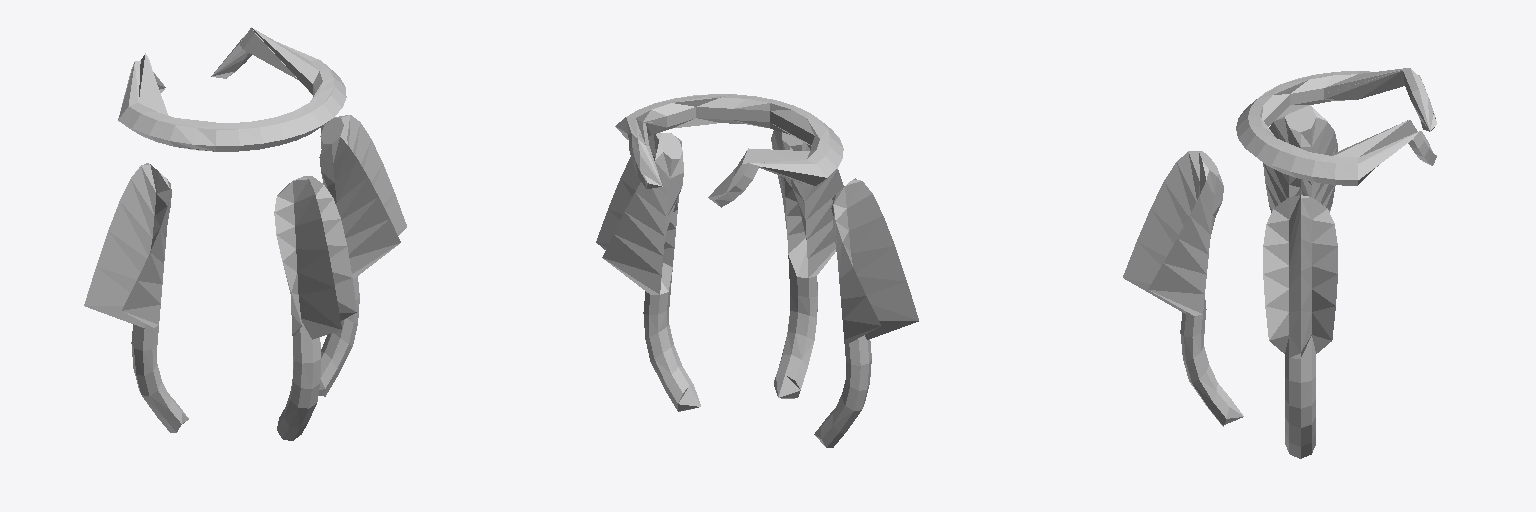
The model's file is VestaTransportship02.obj.
3 views of the same model, side by side, from view 1: azimuth 30°, elevation 25°; view 2: azimuth 150°, elevation 25°; view 3: azimuth 270°, elevation 25° (orthographic).
Visible parts, largest first — view 1: Cube; view 2: Cube; view 3: Cube.
Part boxes in pixels (x1,y1,x2,y2): Cube: (84,27,406,440); Cube: (596,94,918,447); Cube: (1123,68,1436,458).
Size of the model in its own units: 4.03 by 3.96 by 3.4.